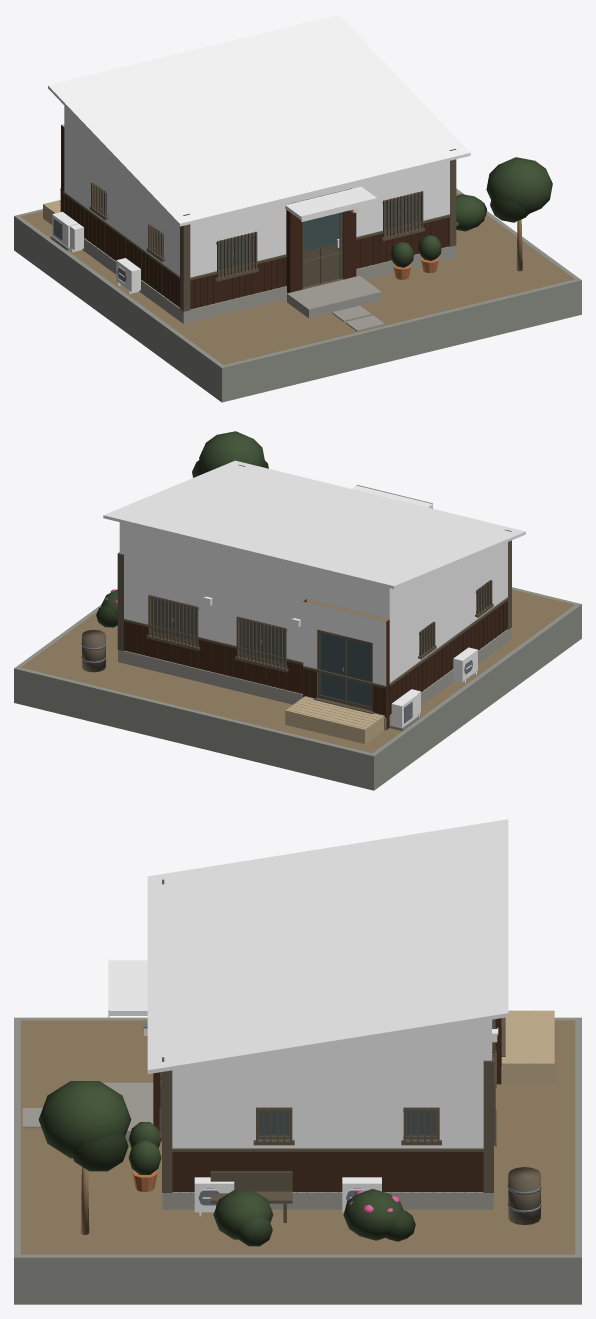
File: site_hut5_close.fbx
3 views of the same model, one above another, from view 1: azimuth 30°, elevation 25°; view 2: azimuth 150°, elevation 25°; view 3: azimuth 270°, elevation 25° (orthographic). The views are drawn at different scales.
Visible parts, largest first — view 1: a2015.site_hut5.close; view 2: a2015.site_hut5.close; view 3: a2015.site_hut5.close.
Part boxes in pixels (<box>): a2015.site_hut5.close: <box>14,14,581,402</box>; a2015.site_hut5.close: <box>14,431,581,790</box>; a2015.site_hut5.close: <box>14,819,581,1304</box>.
Size of the model in its own units: 10.4 by 5.05 by 10.4.
